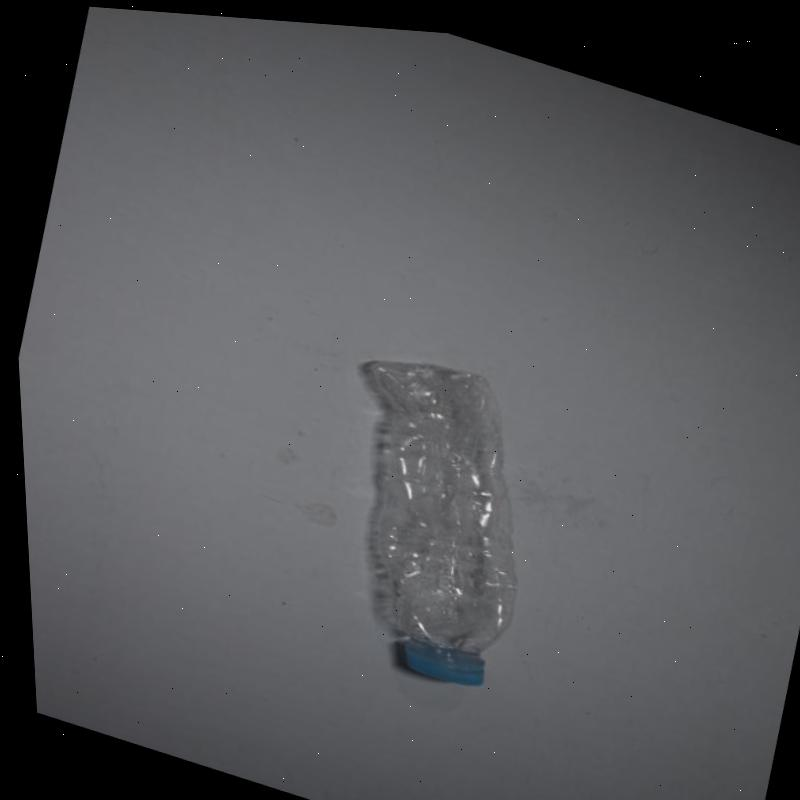botella: (284, 327, 567, 698)
